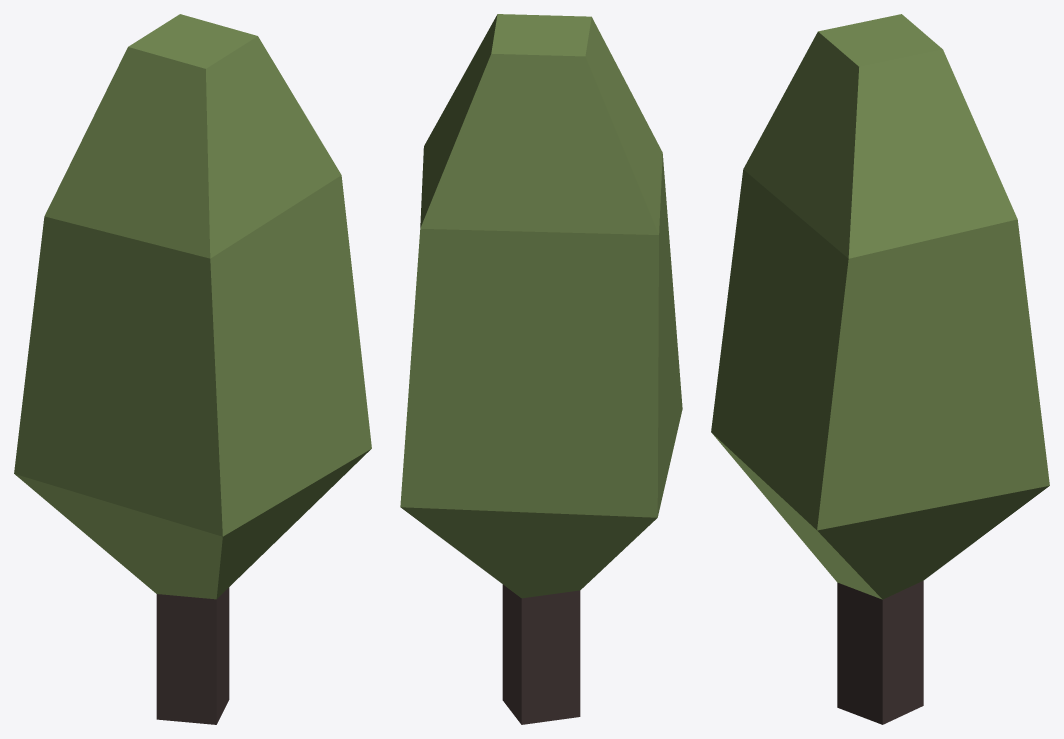
File: bush1.fbx
The picture shows the model from 3 angles, left to right: view 1: azimuth 30°, elevation 25°; view 2: azimuth 150°, elevation 25°; view 3: azimuth 270°, elevation 25°; orthographic projection.
Parts seen in each view (by area): view 1: bush2; view 2: bush2; view 3: bush2.
Part boxes in pixels (<box>): bush2: <box>14,14,371,724</box>; bush2: <box>400,14,682,724</box>; bush2: <box>711,14,1049,724</box>.
Size of the model in its own units: 1.58 by 3.42 by 1.58.
